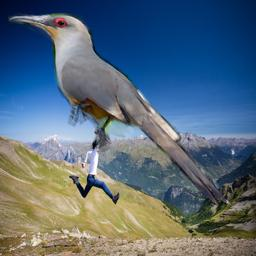Cuckoo: (8, 12, 233, 210)
